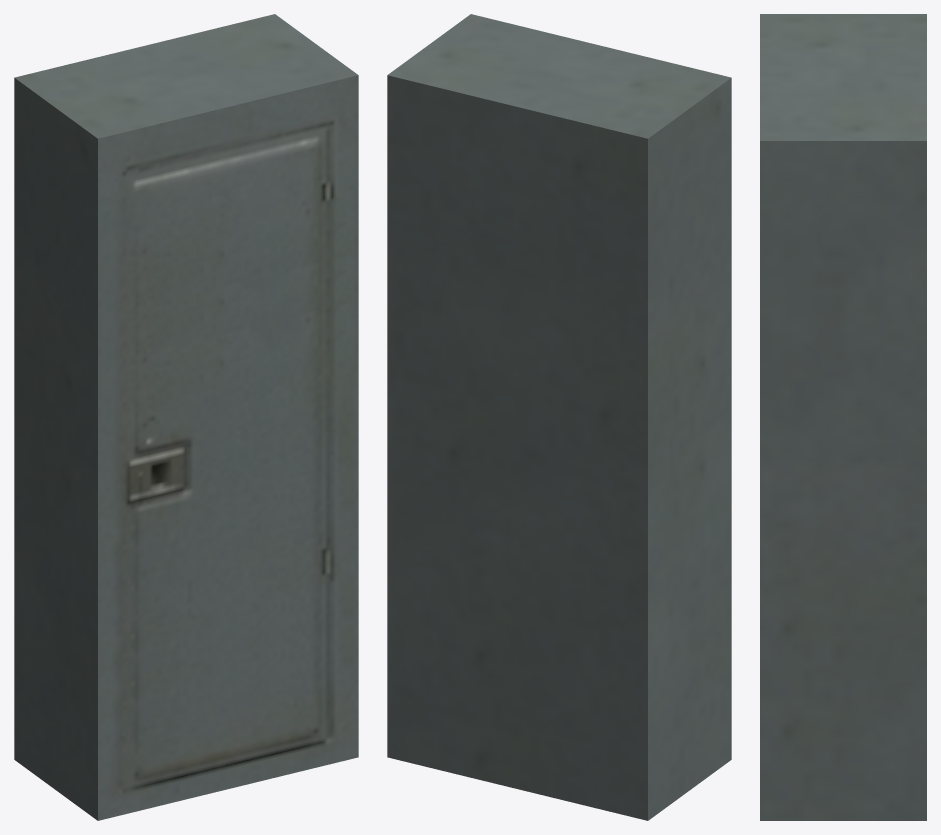
The model's file is Classic64_PanelElectricalClosed_Model.fbx.
3 views of the same model, side by side, from view 1: azimuth 30°, elevation 25°; view 2: azimuth 150°, elevation 25°; view 3: azimuth 270°, elevation 25° (orthographic).
Visible parts, largest first — view 1: Classic64_PanelElectricalClosed_Part001, Classic64_PanelElectricalClosed_Part000; view 2: Classic64_PanelElectricalClosed_Part000; view 3: Classic64_PanelElectricalClosed_Part000.
Boxes of the visible parts, left/top/right/bottom form: Classic64_PanelElectricalClosed_Part001: left=98, top=75, right=358, bottom=820; Classic64_PanelElectricalClosed_Part000: left=14, top=14, right=358, bottom=820; Classic64_PanelElectricalClosed_Part000: left=387, top=14, right=731, bottom=820; Classic64_PanelElectricalClosed_Part000: left=760, top=14, right=926, bottom=820.
Size of the model in its own units: 0.1829 by 0.4572 by 0.1016.
Materials: 2 (2 with a texture image).
